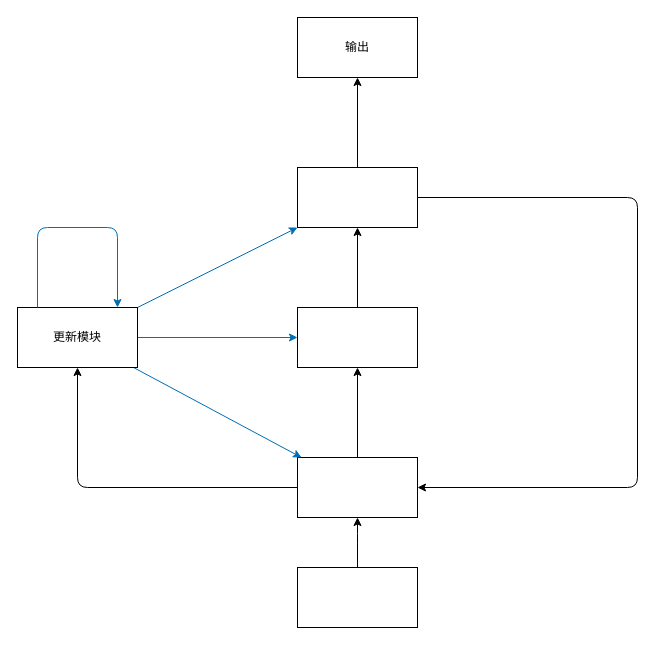
Some shapes in this 663 by 645 pixel diagram are drawn without their labels. Each missing label, with the centre of its shape:
"其他模型" goes at (x=357, y=337).
"输入" goes at (x=357, y=597).
